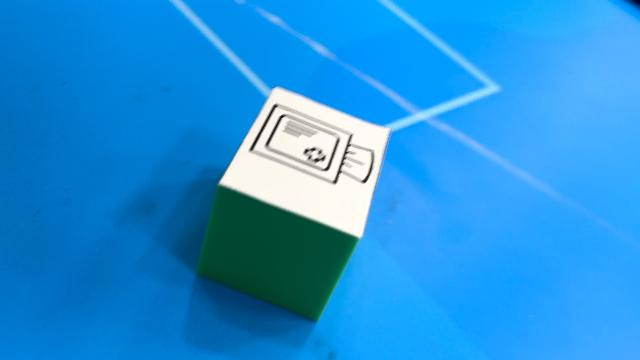napkin: (195, 88, 392, 320)
